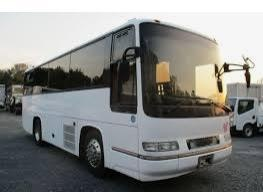bus: (21, 18, 232, 182)
